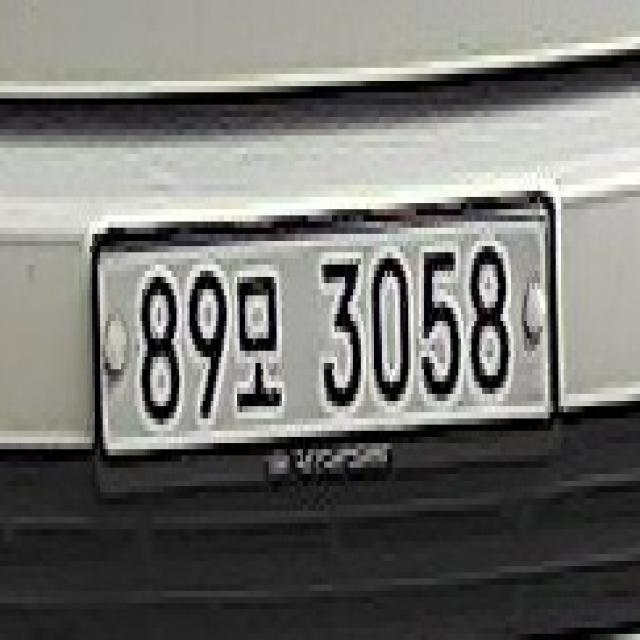plat: (88, 190, 557, 469)
